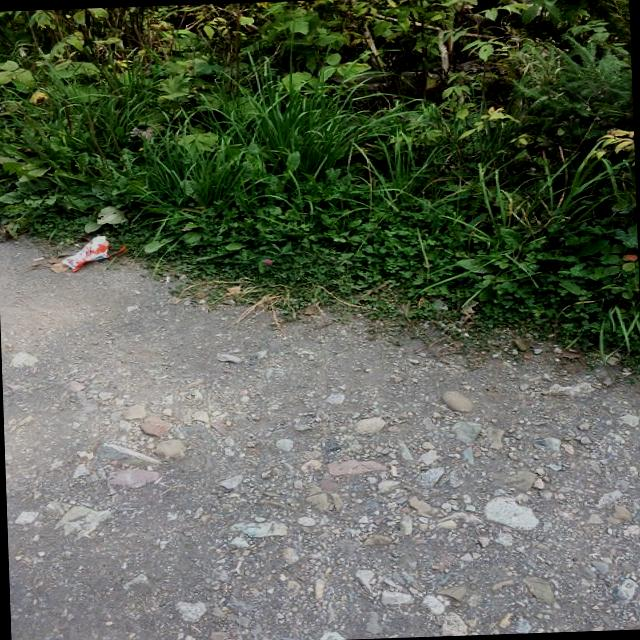Trash: (56, 232, 127, 274)
